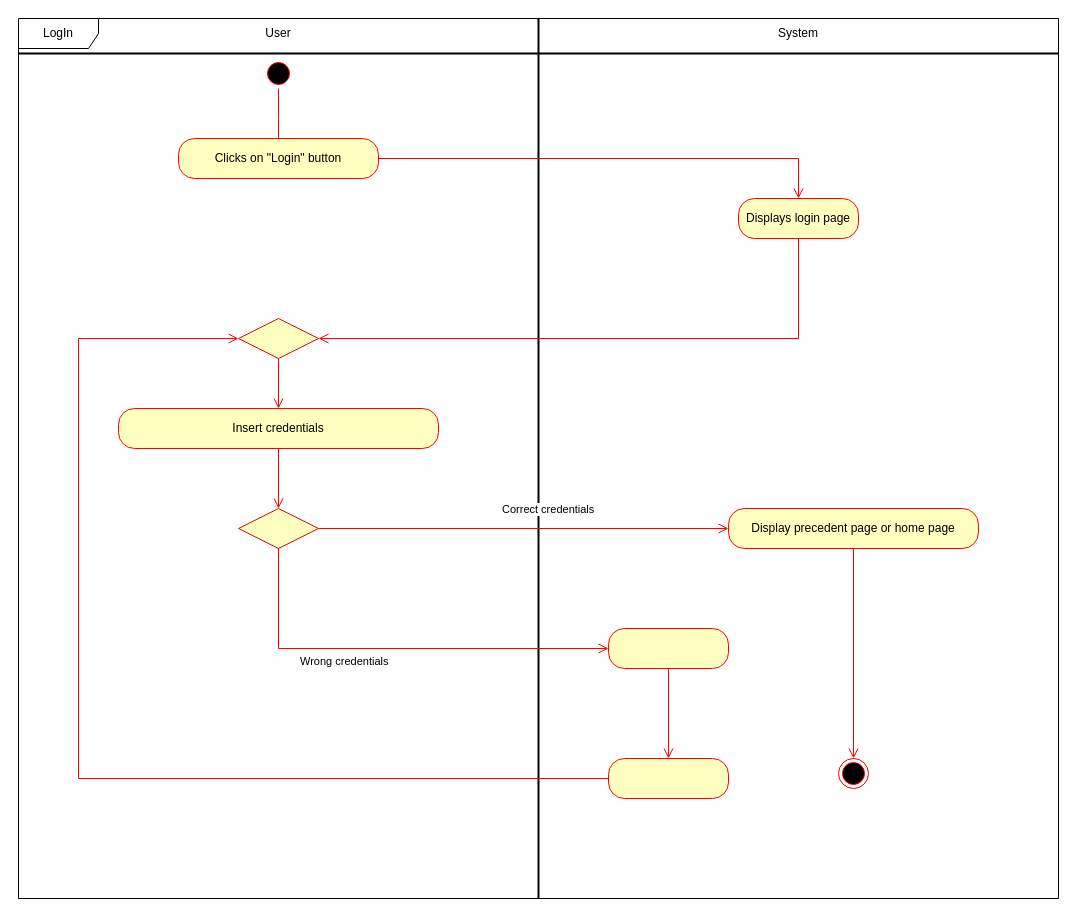
Some shapes in this 1076 by 916 pixel diagram are drawn without their labels. Each missing label, with the box of its shape:
Display error message: (608, 758, 728, 798)
Error: (608, 628, 728, 668)
